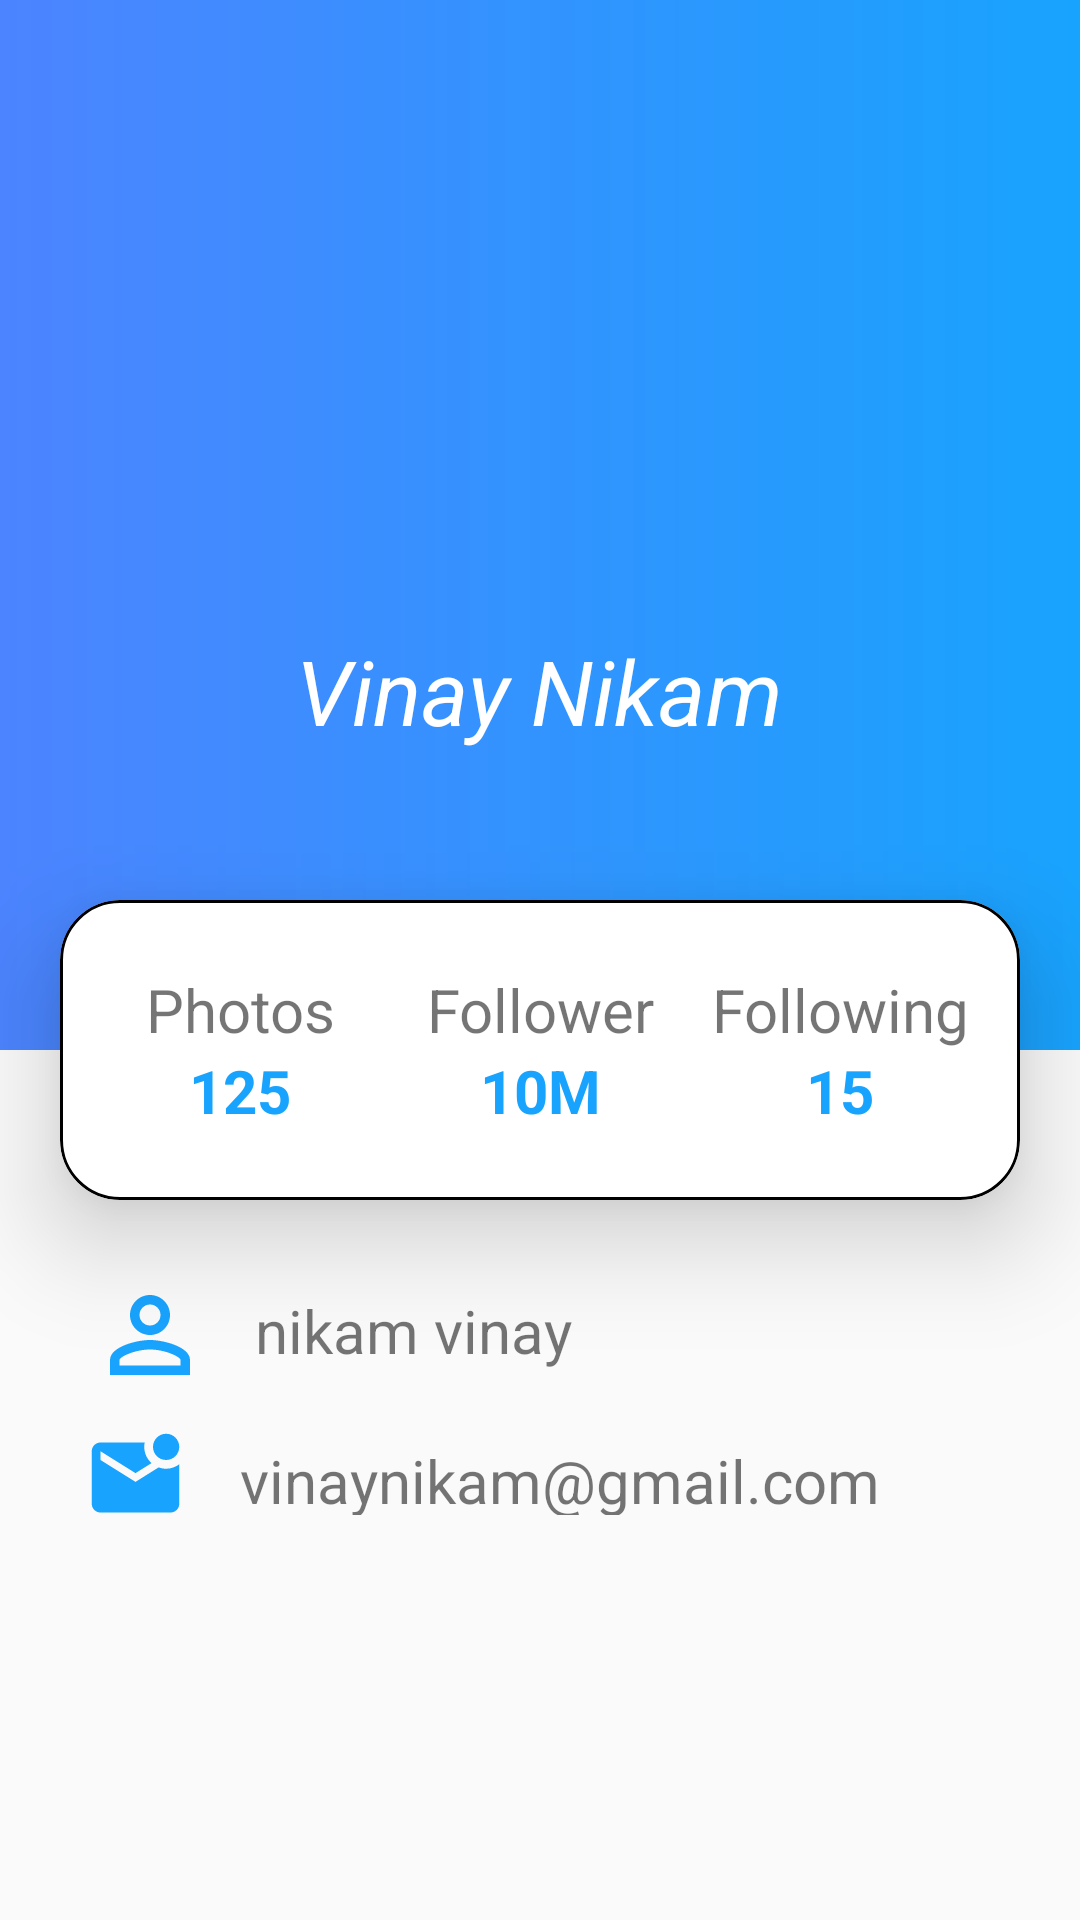

Where icons sit on this 1080x1920 app screen, as (x1,y1,x2,y2):
profile person: (110,1295,190,1375)
profile personemail: (91,1433,180,1513)
